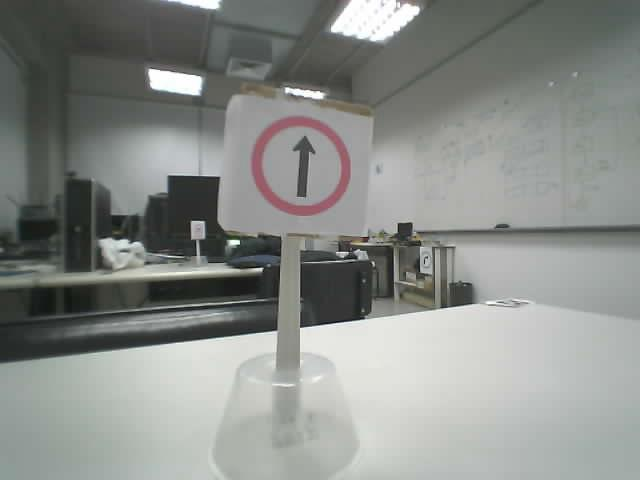R-26_frente: (250, 114, 350, 217)
